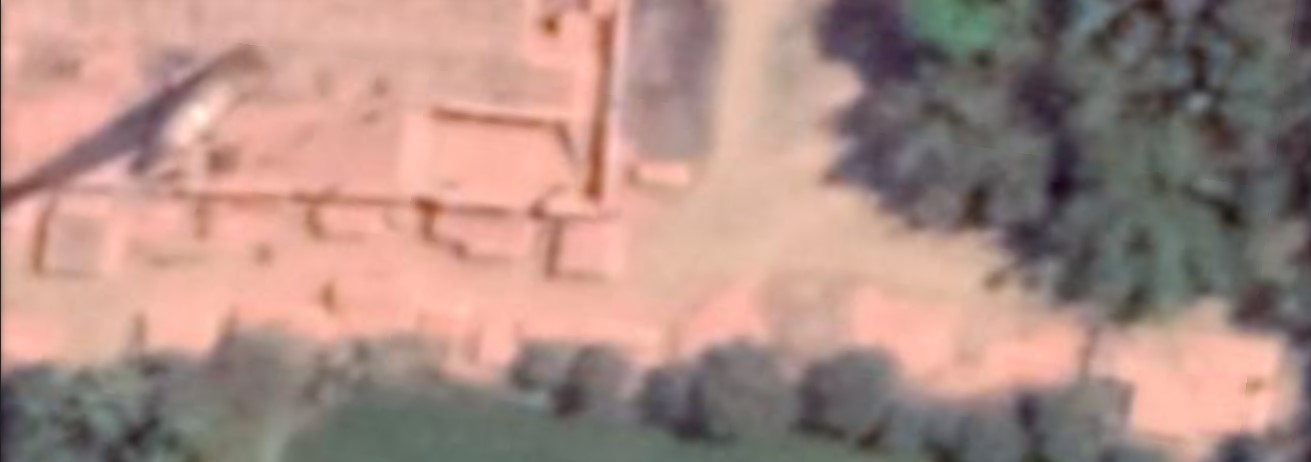kiln: (1, 7, 640, 283)
